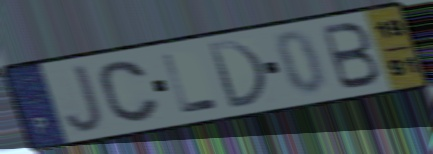0: (274, 27, 329, 98)
B: (319, 19, 384, 93)
C: (96, 59, 163, 126)
D: (204, 38, 269, 111)
J: (62, 62, 105, 135)
L: (160, 51, 222, 116)
